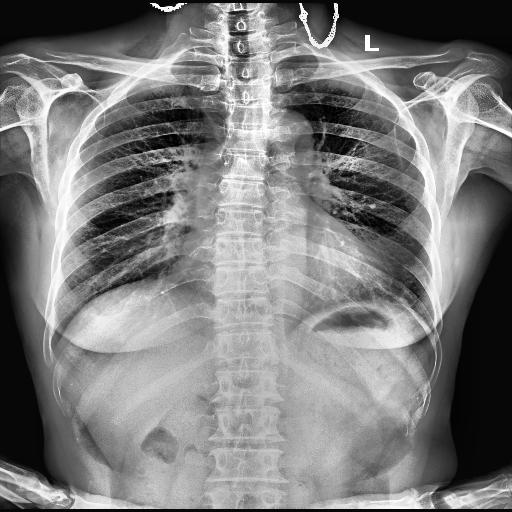0- Aortic enlargement: (256, 111, 312, 172), (257, 107, 314, 161), (258, 110, 312, 166)
3- Cardiomegaly: (179, 235, 391, 302), (166, 240, 392, 300), (178, 242, 394, 292)
